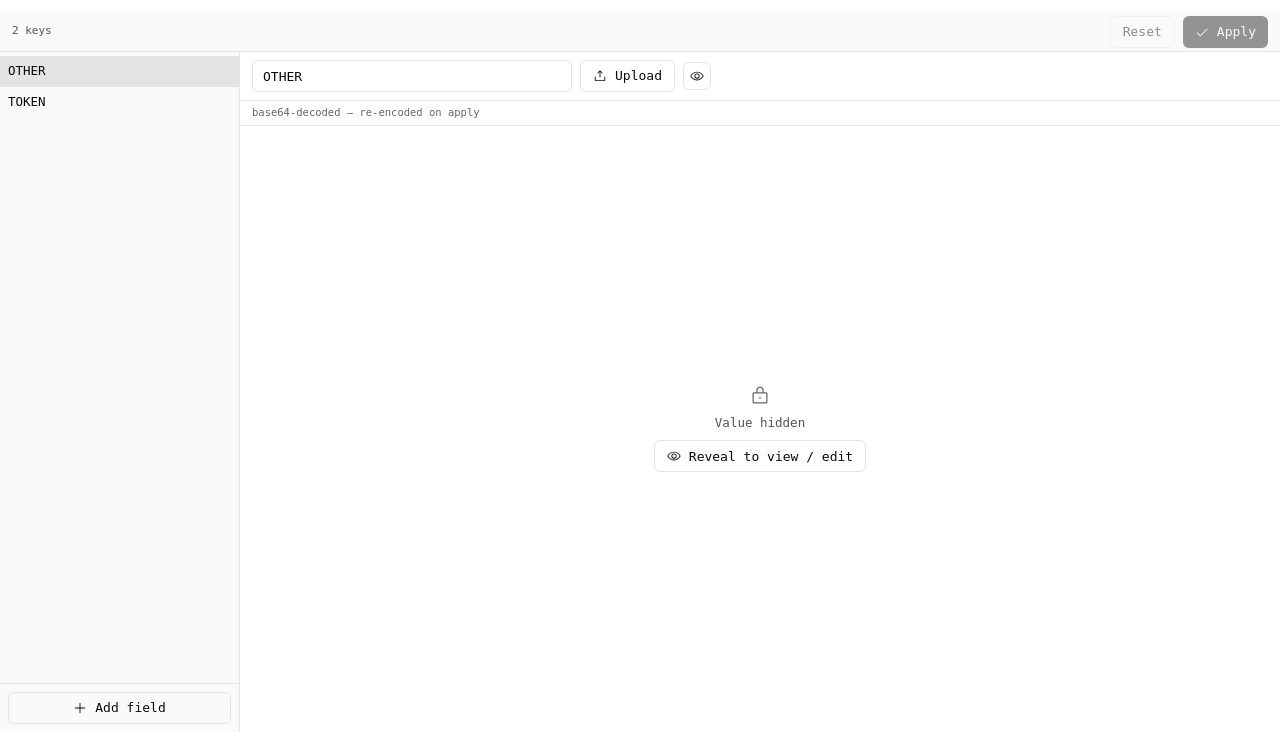
Scenario: ConfigDataEditor search › does not mount a Secret value editor or search panel until revealed
This screenshot has width=1280, height=732.
Expected: the text "Value hidden" is shown, [715,414,805,432]
Step 1. Click the button "Reveal to view / edit" → (760,456), box [654,440,866,472]
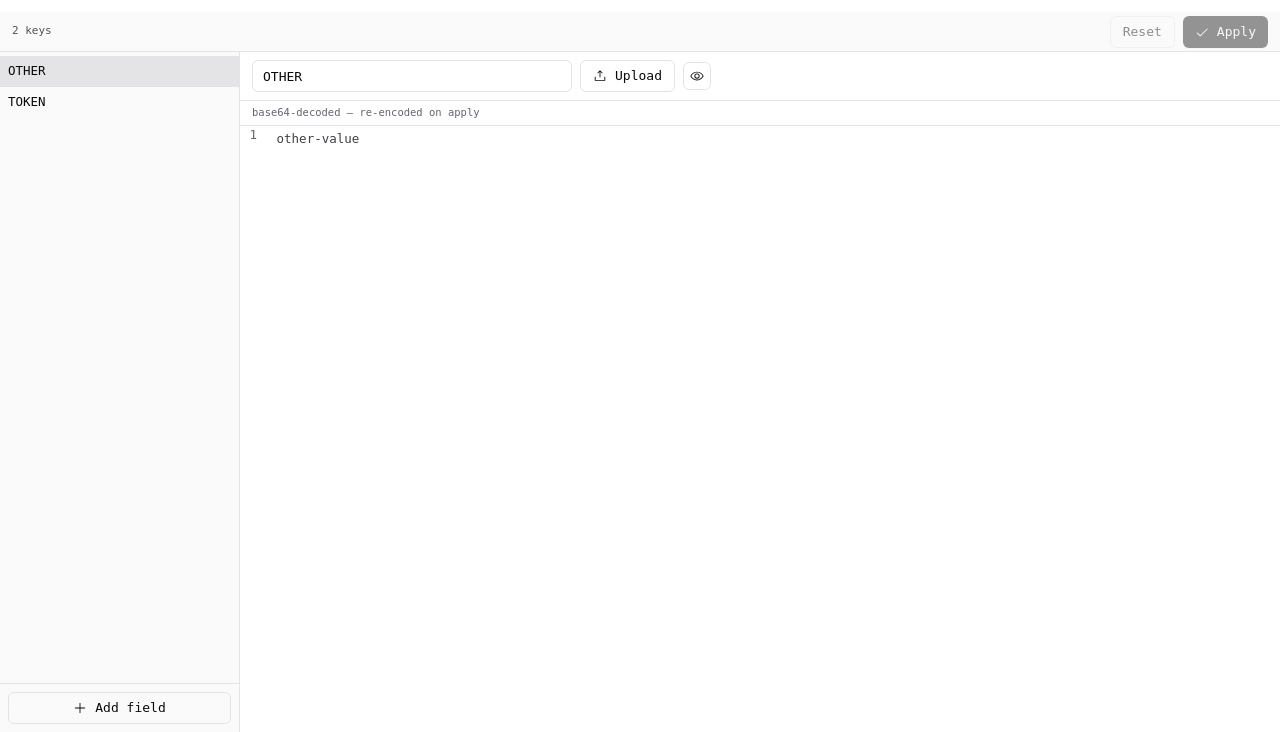
Expected: the field with class "cm-content" is shown
Step 2. Press f in the field with class "cm-content", box [276,131,359,146]
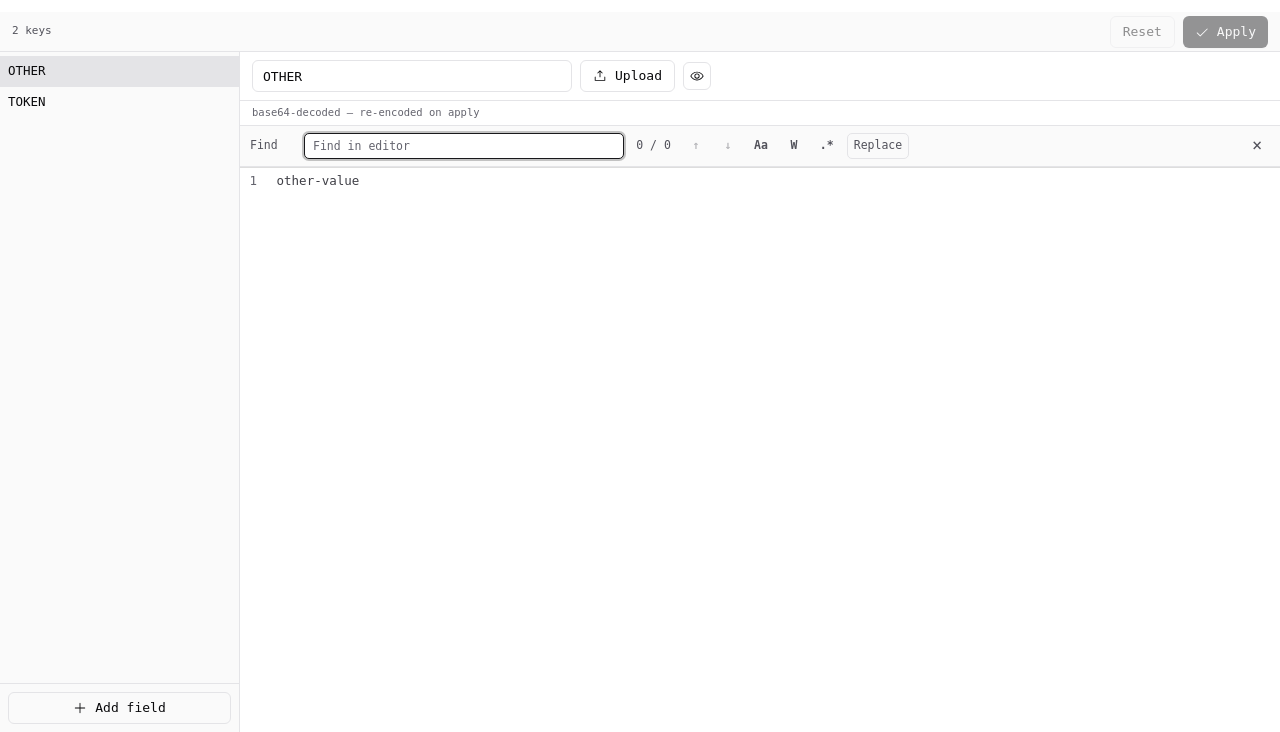
Expected: the element named "Find in editor" is shown, [240,126,1279,167]
Step 3. Click the button named "Hide value" → (697,76), box [683,62,711,90]
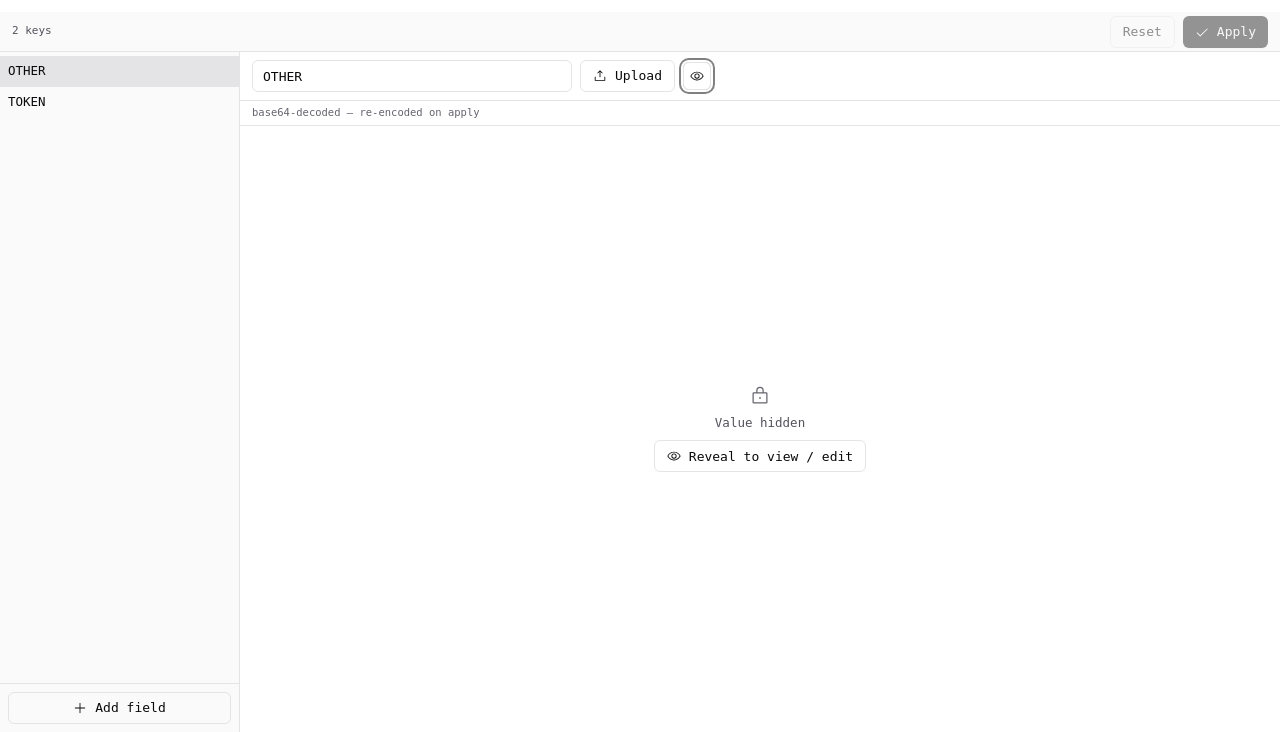
Expected: the element "Find in editor" is not shown
Expected: the element with class "cm-editor" is gone
